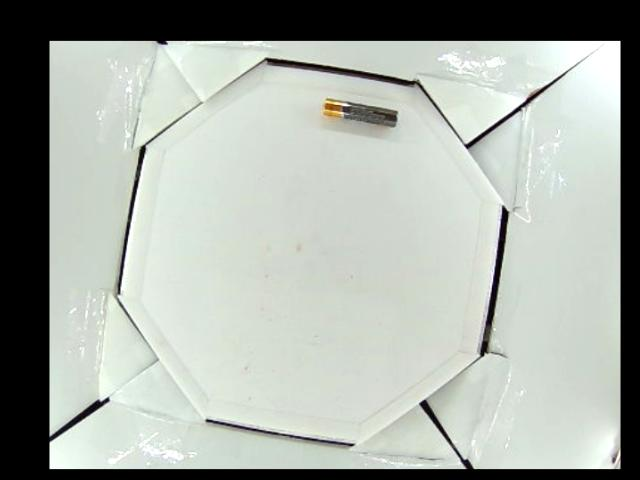Battery: (323, 97, 398, 130)
